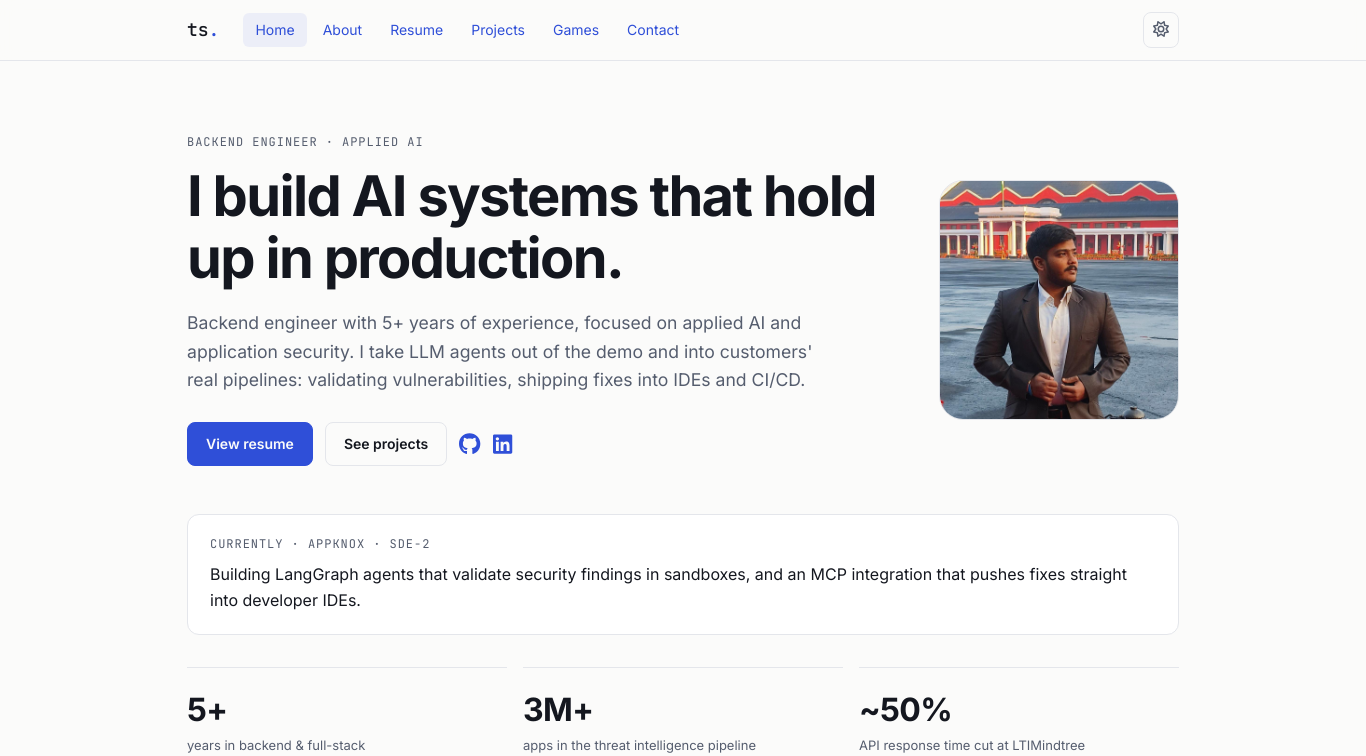
Test: navigating to Resume shows experience and the PDF download
The image size is (1366, 756).
Click the link "Resume".
click(417, 29)  # box [390,21,443,38]
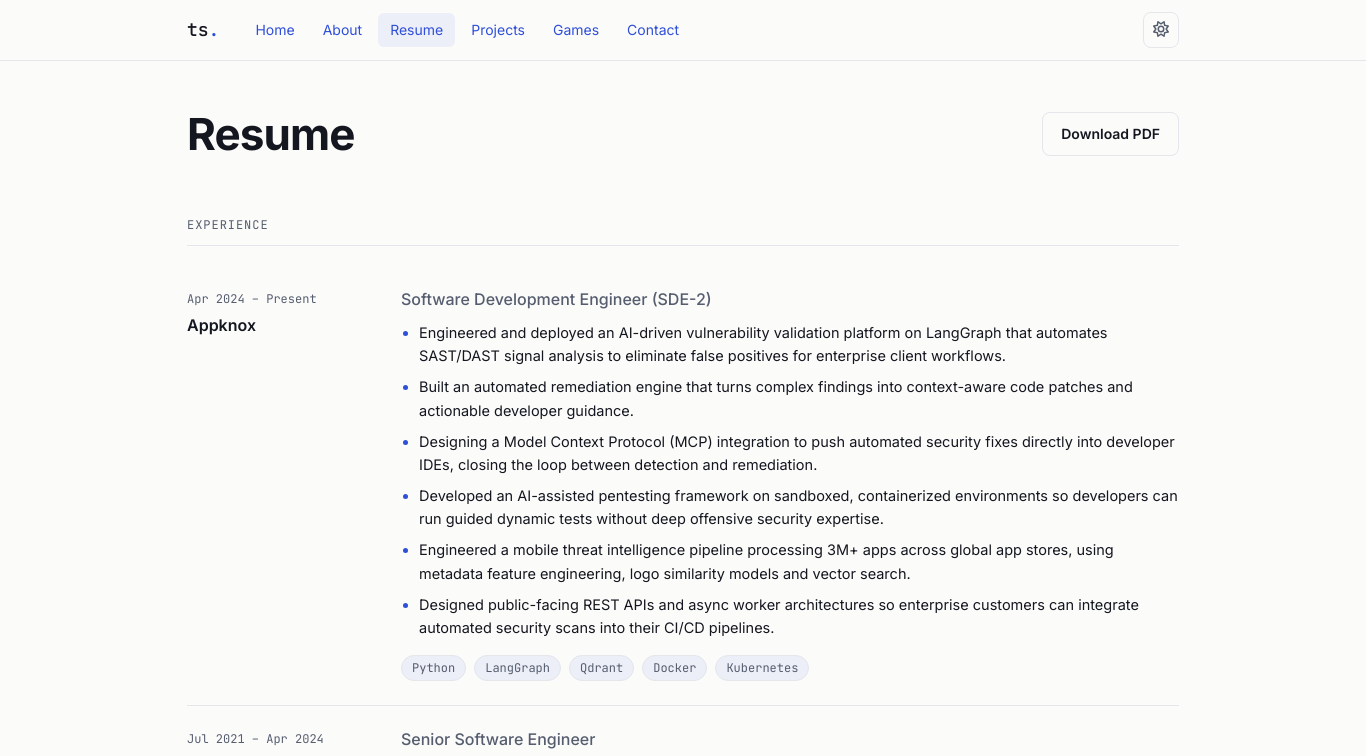
Result: the text "Appknox" is shown at [187,315,256,335]
